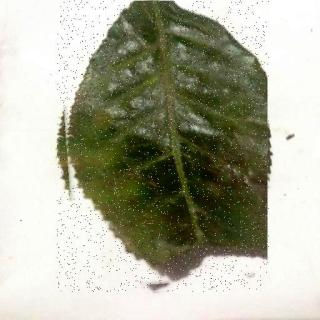Red Leaf Spot: (59, 3, 271, 294)
